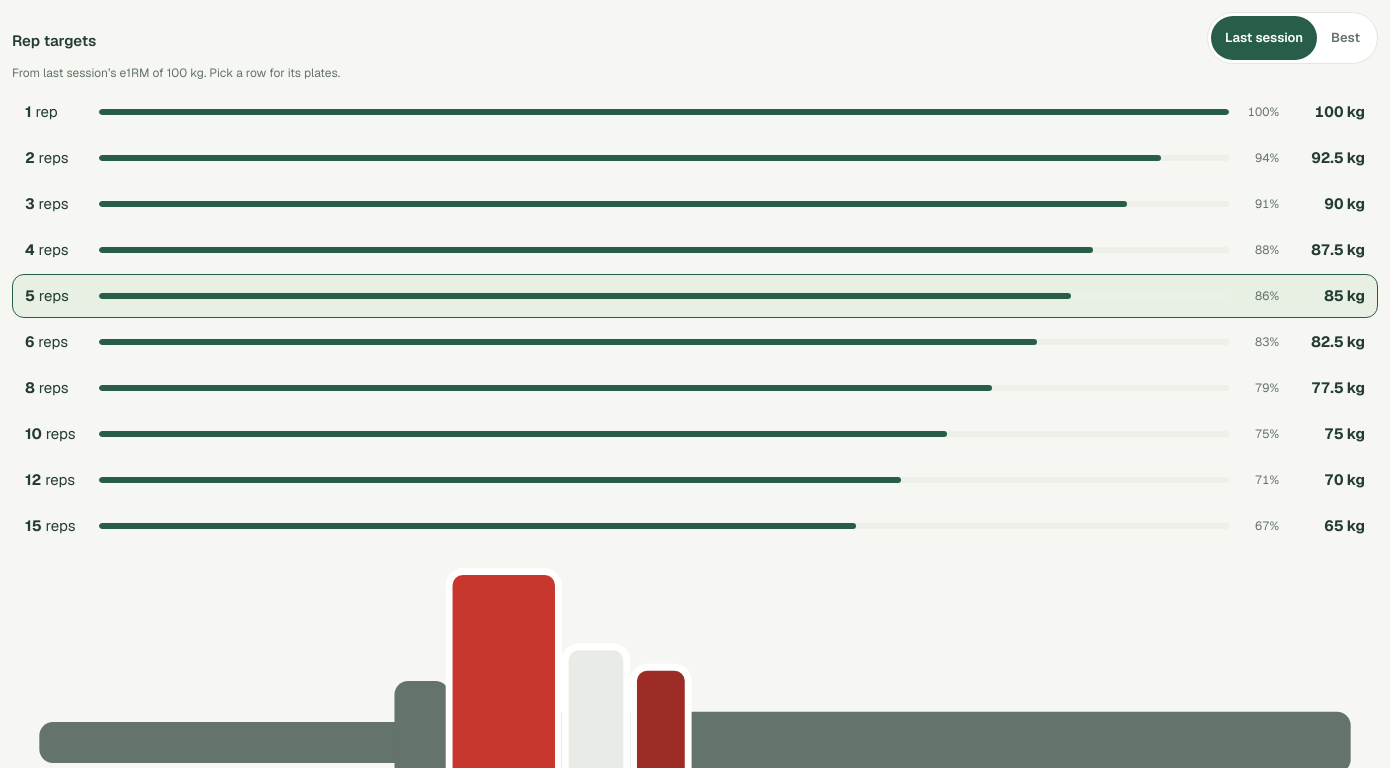
Test: Rep targets › starts from last session, picks rows and shows their plates
Expected: the text "last session’s e1RM of 100 kg" is shown, [12, 65, 340, 81]
Click the button "1 rep 100% 100 kg" at (695, 112), box [12, 90, 1378, 134]
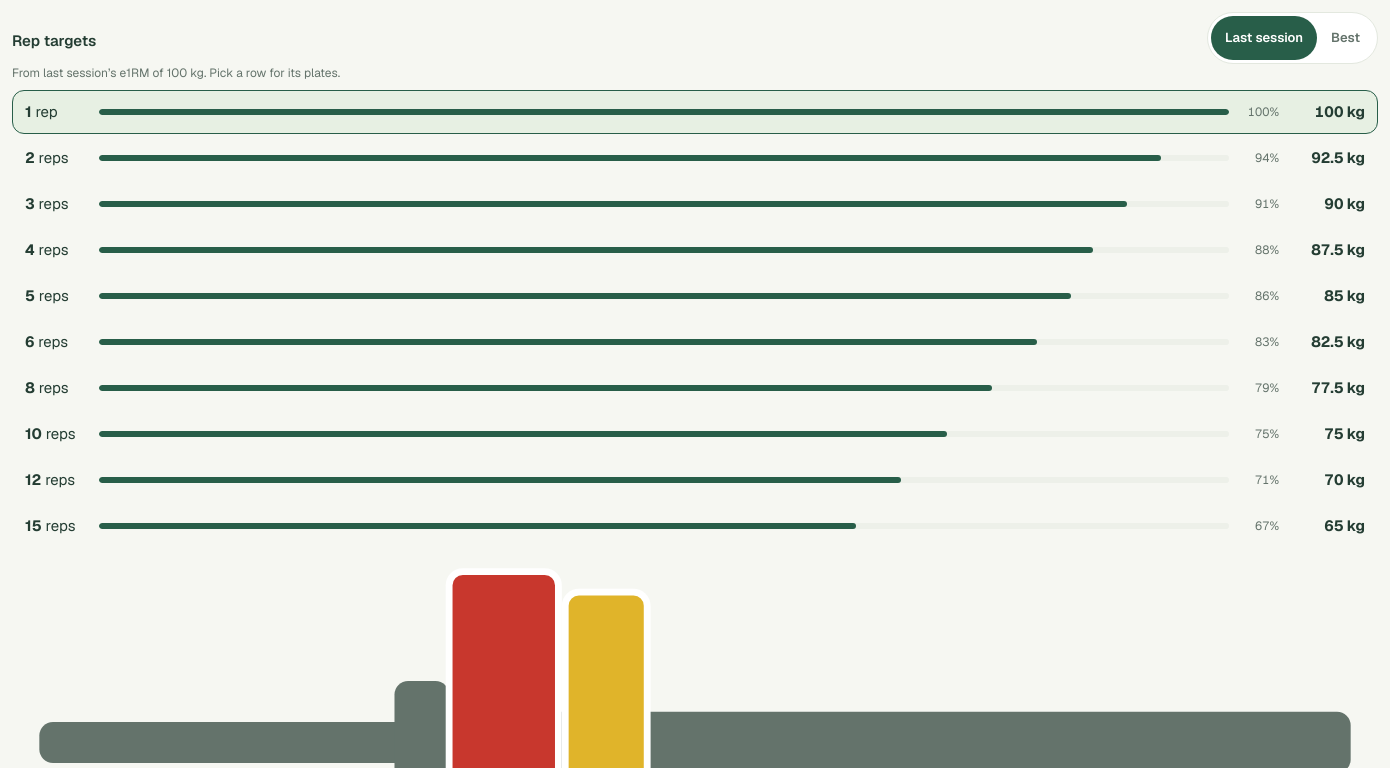
Click the button "Best" at (1346, 38), box [1317, 16, 1374, 60]
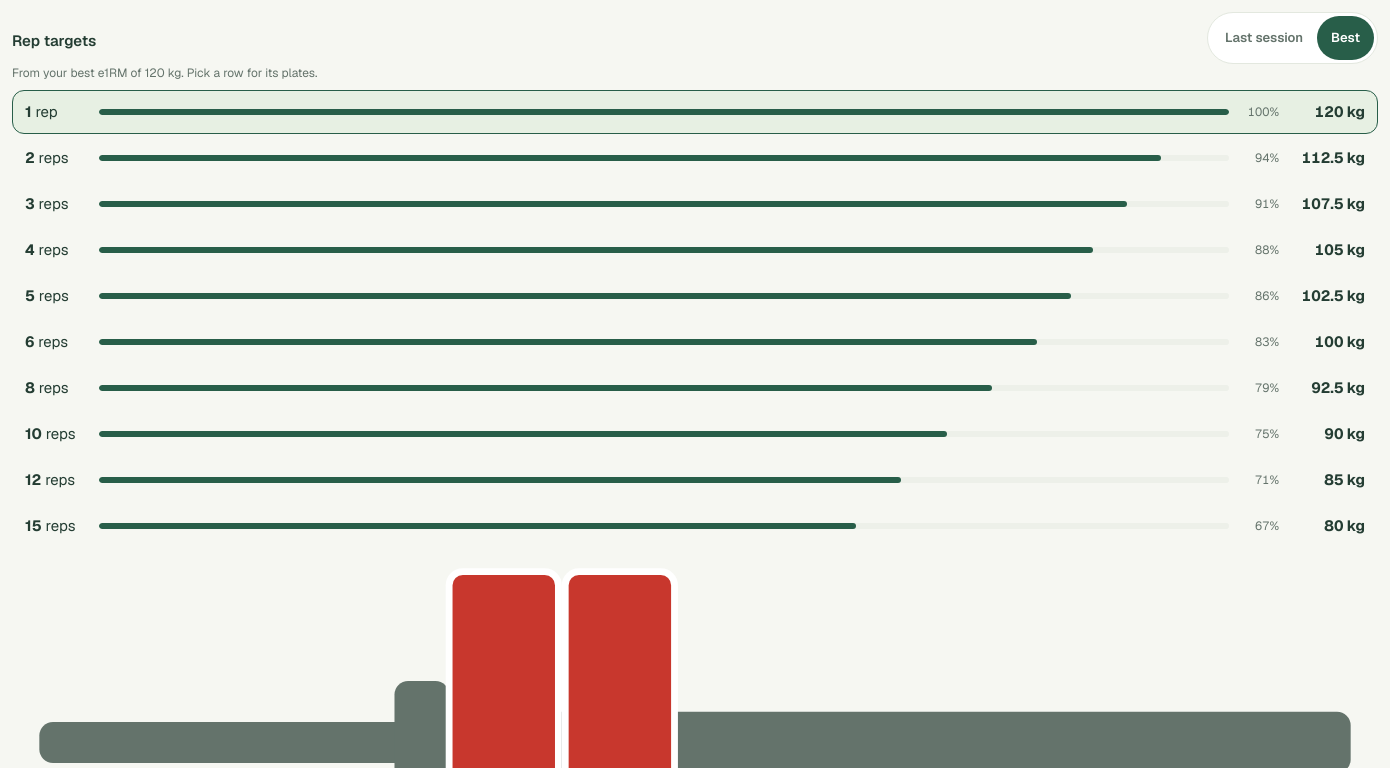
Expected: the text "From your best e1RM of 120 kg. Pick a row for its plates." is shown, [12, 65, 318, 81]
Expected: the button "1 rep 100% 120 kg" is shown, [12, 90, 1378, 134]
